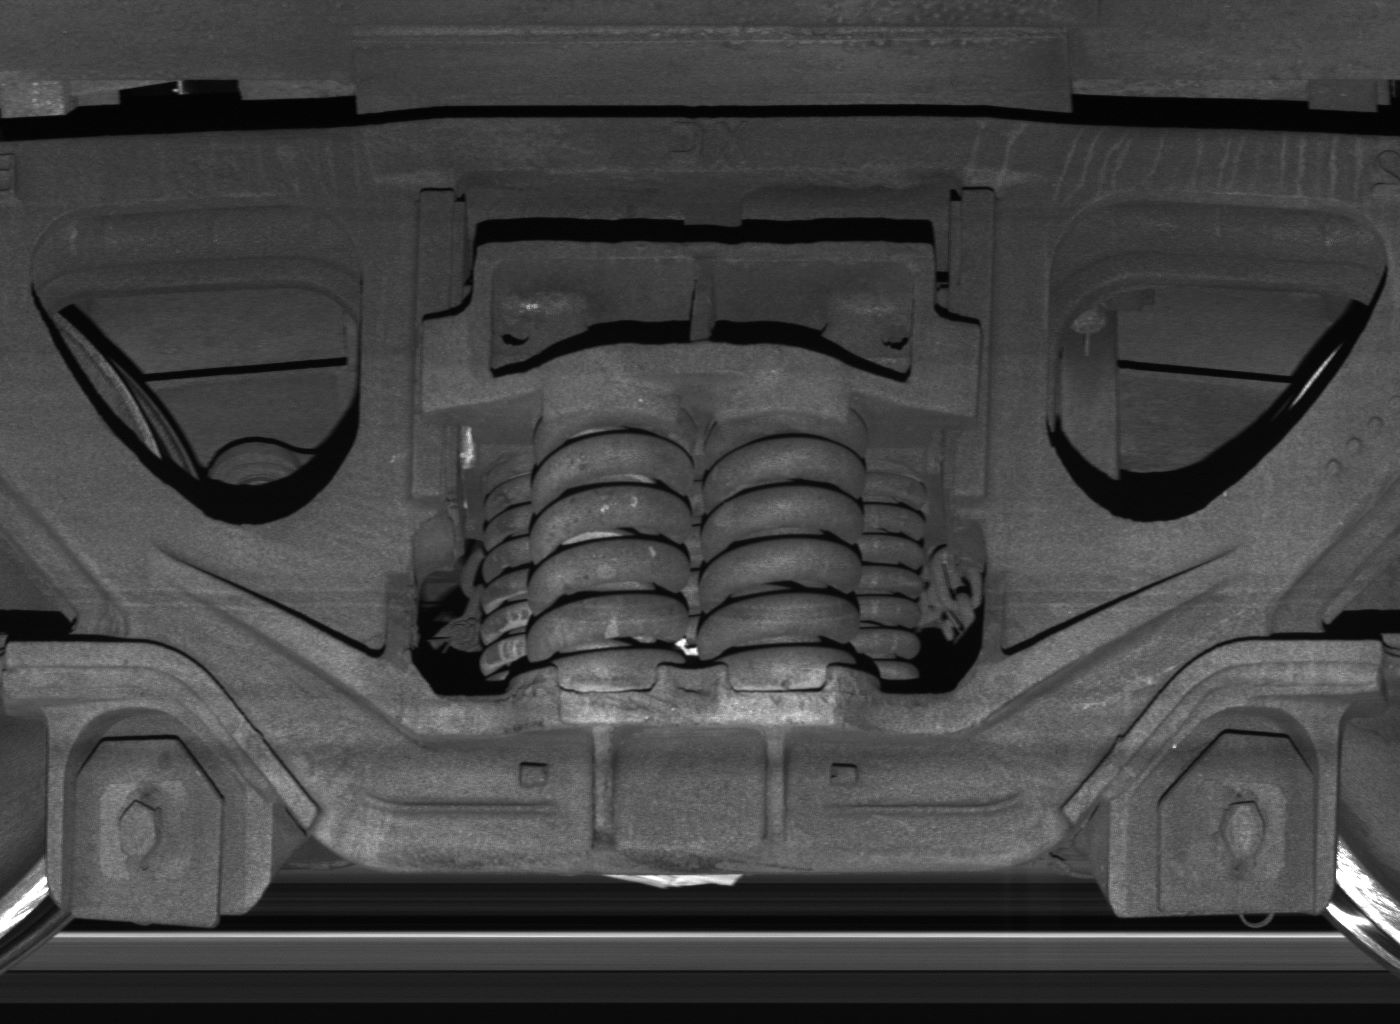Locking plate: (47, 704, 268, 928)
normal: (1107, 704, 1339, 922)
